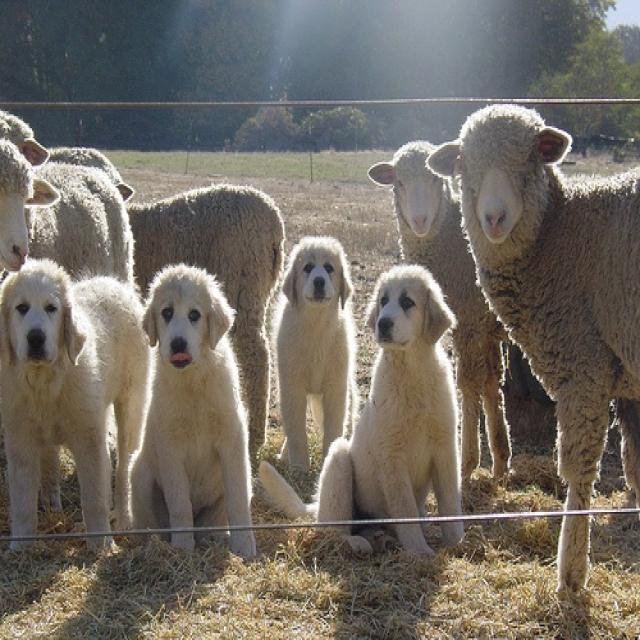dog: (260, 259, 470, 555), (0, 270, 154, 554), (127, 264, 262, 562), (272, 234, 362, 481)
sheep: (429, 99, 639, 597), (367, 137, 521, 483), (126, 174, 282, 463), (0, 142, 138, 268)
